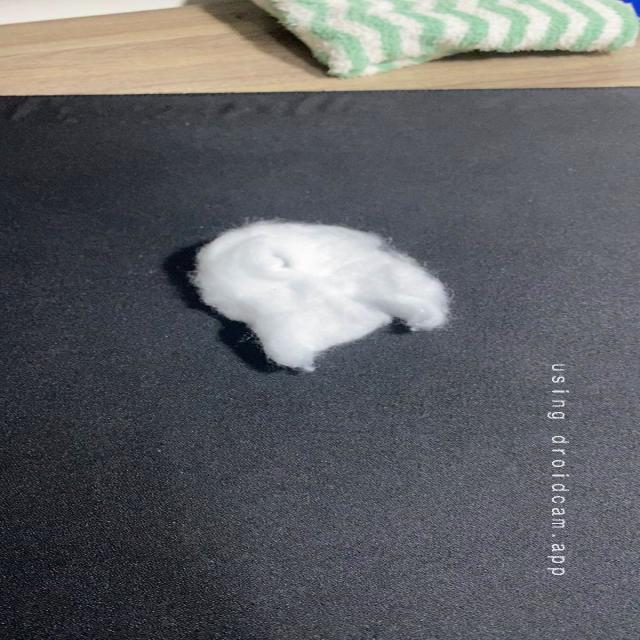cotton: (180, 212, 456, 378)
